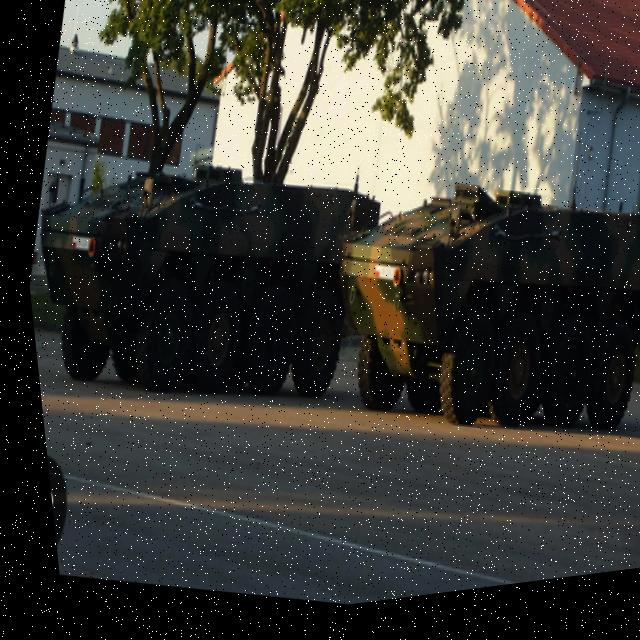MIL_APC: (10, 93, 393, 448), (293, 149, 640, 486)
